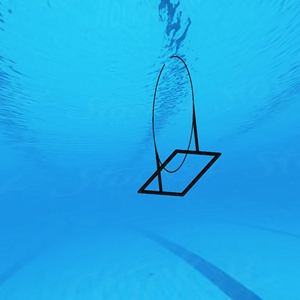circle: (136, 54, 224, 206)
